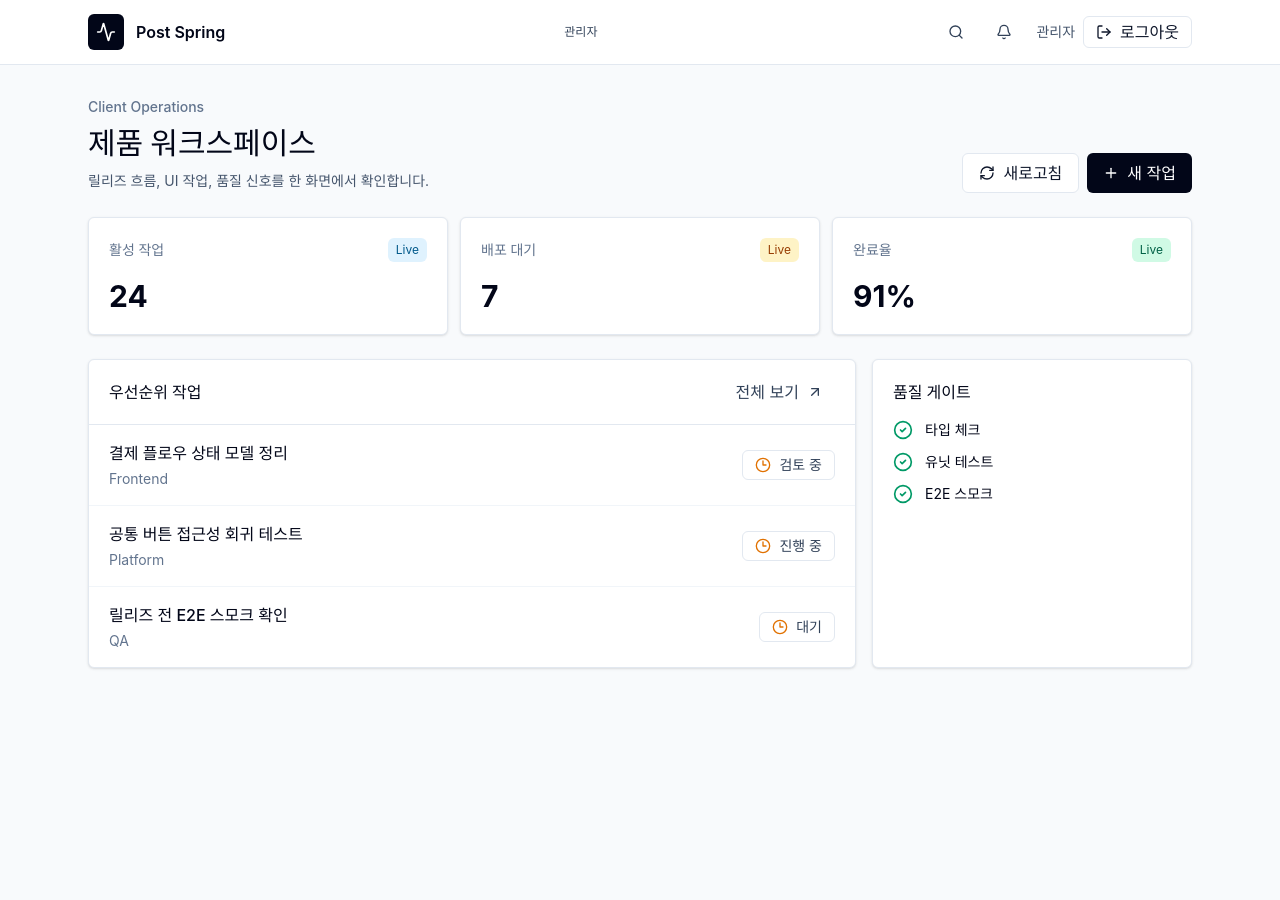
Test: LoginPage › logs out and returns to the login page
Click the button "로그아웃" at (1138, 32), box [1083,16,1192,48]
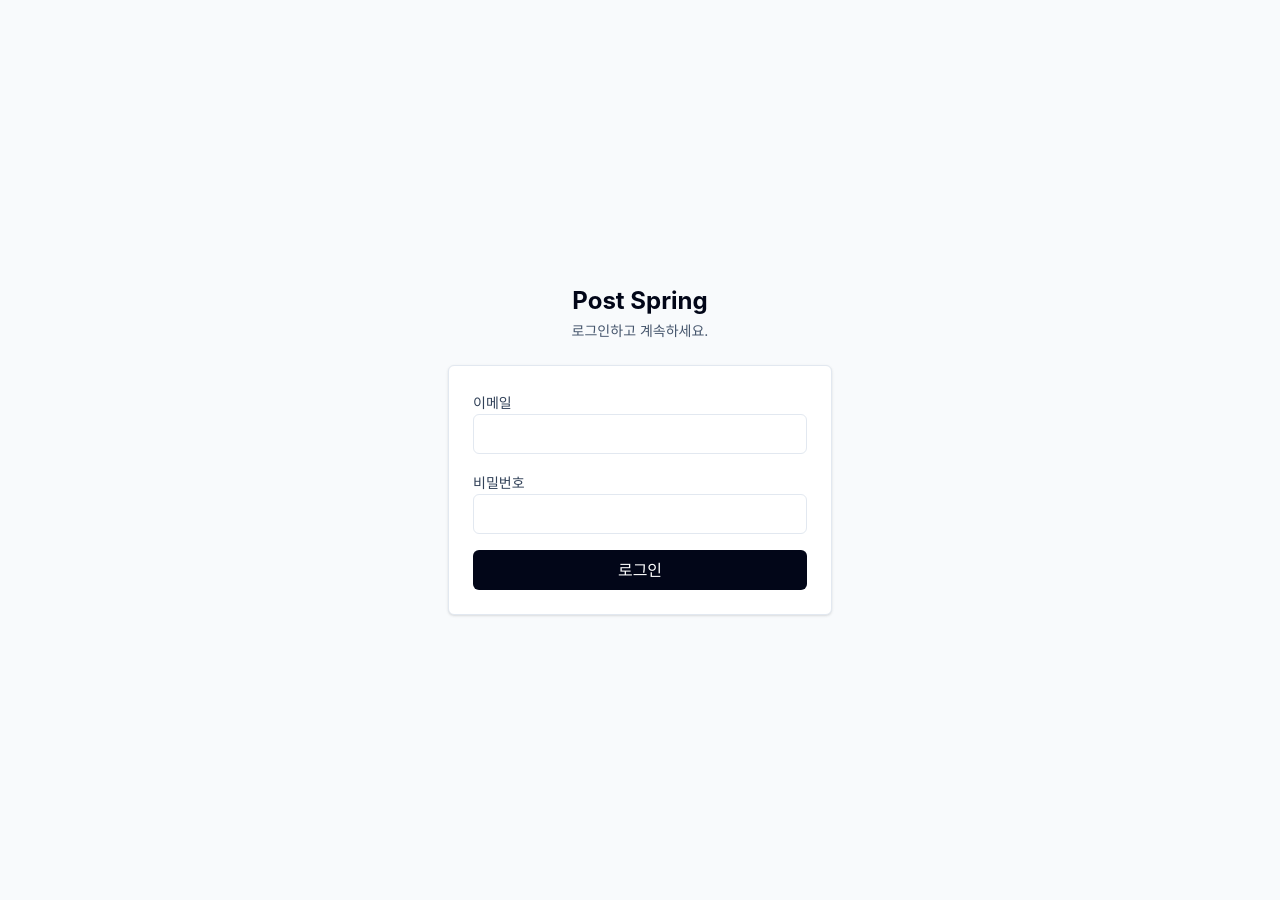
expect the button "로그인" is shown: met, box [473,550,807,590]
